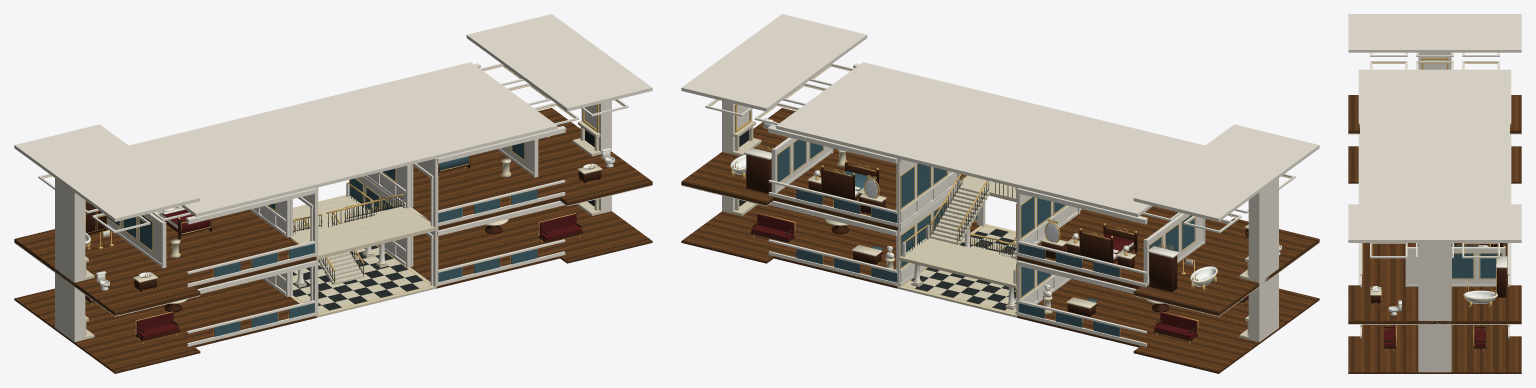
Rendered from palaceInterior.glb.
3 renders of one model, left to right at view 1: azimuth 30°, elevation 25°; view 2: azimuth 150°, elevation 25°; view 3: azimuth 270°, elevation 25°, orthographic. The views are drawn at different scales.
Visible parts, largest first — view 1: palaceInterior Chateau Stuc creme.004, palaceInterior Chateau Parquet Versailles.004, palaceInterior Chateau Moulures ivoire.007, palaceInterior Chateau Marbre creme veine.007, palaceInterior Chateau Soie bleu grise.007, palaceInterior Dosseret cheminees.004, palaceInterior Chateau Marbre noir.007, palaceInterior Chateau Bronze dore patine.008, palaceInterior Chateau Velours bordeaux.007, palaceInterior Chateau Chene des portes.008, palaceInterior Dosseret cheminees.005, palaceInterior Chateau Ferronnerie noire.007 (+3 smaller); view 2: palaceInterior Chateau Stuc creme.004, palaceInterior Chateau Parquet Versailles.004, palaceInterior Chateau Moulures ivoire.007, palaceInterior Chateau Marbre creme veine.007, palaceInterior Chateau Soie bleu grise.007, palaceInterior Chateau Chene des portes.008, palaceInterior Dosseret cheminees.004, palaceInterior Chateau Bronze dore patine.007, palaceInterior Chateau Bronze dore patine.008, palaceInterior Chateau Marbre noir.007, palaceInterior Chateau Velours bordeaux.007, palaceInterior Chateau Marbre creme veine.008 (+4 smaller); view 3: palaceInterior Chateau Stuc creme.004, palaceInterior Chateau Parquet Versailles.004, palaceInterior Dosseret cheminees.005, palaceInterior Chateau Moulures ivoire.007, palaceInterior Chateau Soie bleu grise.007, palaceInterior Chateau Bronze dore patine.007, palaceInterior Chateau Porcelaine emaillee.004, palaceInterior Chateau Chene des portes.008, palaceInterior Chateau Velours bordeaux.007, palaceInterior Dosseret cheminees.004, palaceInterior Chateau Bronze dore patine.008, palaceInterior Chateau Chene des portes.007.
Part boxes in pixels (x1=…): palaceInterior Chateau Stuc creme.004: x1=14, y1=14, x2=652, y2=316; palaceInterior Chateau Parquet Versailles.004: x1=14, y1=108, x2=652, y2=373; palaceInterior Chateau Moulures ivoire.007: x1=38, y1=63, x2=628, y2=346; palaceInterior Chateau Marbre creme veine.007: x1=81, y1=121, x2=604, y2=340; palaceInterior Chateau Soie bleu grise.007: x1=107, y1=142, x2=537, y2=336; palaceInterior Dosseret cheminees.004: x1=55, y1=178, x2=85, y2=342; palaceInterior Chateau Marbre noir.007: x1=293, y1=130, x2=594, y2=310; palaceInterior Chateau Bronze dore patine.008: x1=85, y1=136, x2=610, y2=343; palaceInterior Chateau Velours bordeaux.007: x1=85, y1=214, x2=582, y2=338; palaceInterior Chateau Chene des portes.008: x1=85, y1=156, x2=601, y2=312; palaceInterior Dosseret cheminees.005: x1=581, y1=101, x2=611, y2=213; palaceInterior Chateau Ferronnerie noire.007: x1=293, y1=184, x2=403, y2=282; palaceInterior Chateau Stuc creme.004: x1=681, y1=14, x2=1319, y2=316; palaceInterior Chateau Parquet Versailles.004: x1=681, y1=108, x2=1319, y2=373; palaceInterior Chateau Moulures ivoire.007: x1=705, y1=63, x2=1295, y2=346; palaceInterior Chateau Marbre creme veine.007: x1=729, y1=121, x2=1252, y2=339; palaceInterior Chateau Soie bleu grise.007: x1=777, y1=140, x2=1194, y2=336; palaceInterior Chateau Chene des portes.008: x1=746, y1=154, x2=1248, y2=316; palaceInterior Dosseret cheminees.004: x1=1248, y1=178, x2=1278, y2=342; palaceInterior Chateau Bronze dore patine.007: x1=710, y1=66, x2=1290, y2=313; palaceInterior Chateau Bronze dore patine.008: x1=730, y1=145, x2=1248, y2=343; palaceInterior Chateau Marbre noir.007: x1=739, y1=130, x2=1016, y2=310; palaceInterior Chateau Velours bordeaux.007: x1=751, y1=214, x2=1248, y2=338; palaceInterior Chateau Marbre creme veine.008: x1=807, y1=149, x2=1248, y2=314; palaceInterior Chateau Stuc creme.004: x1=1348, y1=14, x2=1521, y2=324; palaceInterior Chateau Parquet Versailles.004: x1=1348, y1=95, x2=1521, y2=373; palaceInterior Dosseret cheminees.005: x1=1418, y1=243, x2=1451, y2=372; palaceInterior Chateau Moulures ivoire.007: x1=1358, y1=52, x2=1511, y2=338; palaceInterior Chateau Soie bleu grise.007: x1=1452, y1=253, x2=1501, y2=278; palaceInterior Chateau Bronze dore patine.007: x1=1372, y1=53, x2=1502, y2=299; palaceInterior Chateau Porcelaine emaillee.004: x1=1372, y1=286, x2=1497, y2=315; palaceInterior Chateau Chene des portes.008: x1=1371, y1=243, x2=1506, y2=304; palaceInterior Chateau Velours bordeaux.007: x1=1384, y1=324, x2=1485, y2=346; palaceInterior Dosseret cheminees.004: x1=1418, y1=52, x2=1451, y2=69; palaceInterior Chateau Bronze dore patine.008: x1=1362, y1=243, x2=1507, y2=351; palaceInterior Chateau Chene des portes.007: x1=1384, y1=326, x2=1485, y2=348.
Bounding box in the file's own units: 41.6 × 11.48 × 13.5.
15 materials, 6 textured.
